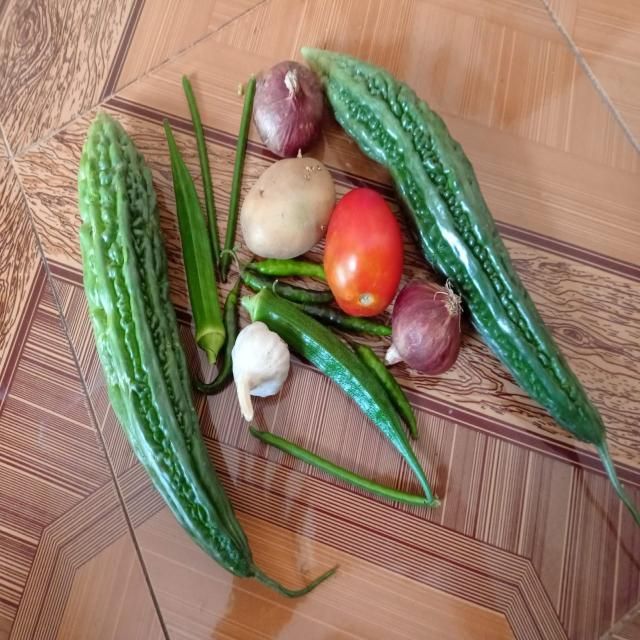Organik: (84, 112, 174, 485), (242, 156, 336, 263), (326, 190, 404, 318), (252, 428, 401, 494), (173, 171, 226, 352), (198, 82, 248, 264), (254, 57, 324, 156), (387, 283, 462, 373), (228, 319, 292, 420)
